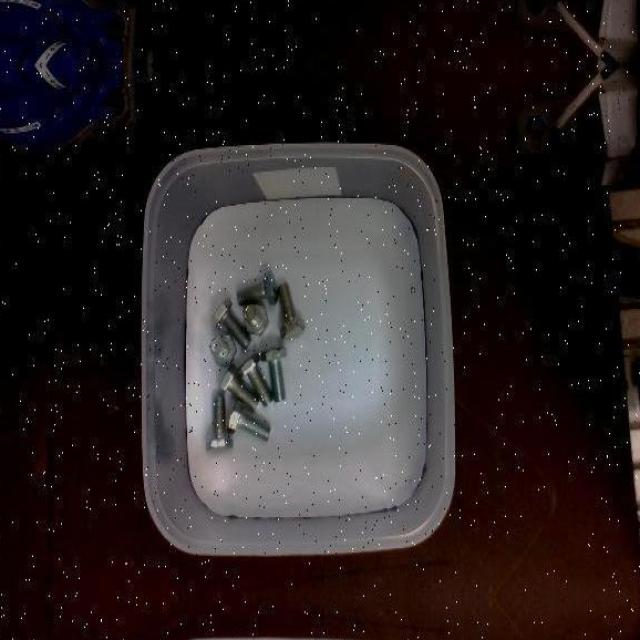screw: (210, 296, 252, 348), (238, 350, 272, 406), (226, 399, 271, 441), (219, 363, 259, 409), (206, 392, 234, 451), (279, 280, 306, 338), (237, 269, 279, 305), (261, 344, 288, 400), (242, 301, 268, 334), (210, 334, 236, 364)
